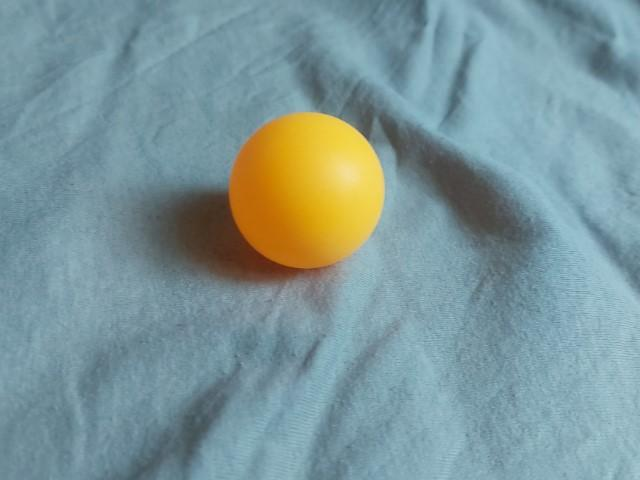oball: (217, 103, 397, 277)
